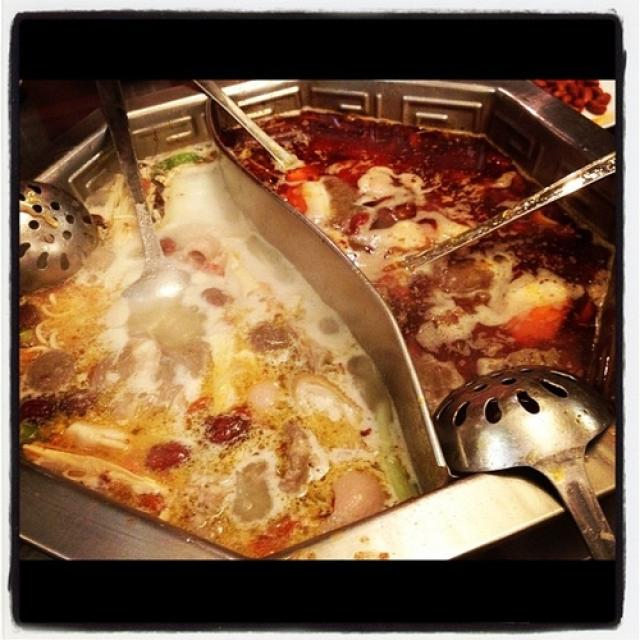汤锅炖物: (22, 47, 612, 576)
